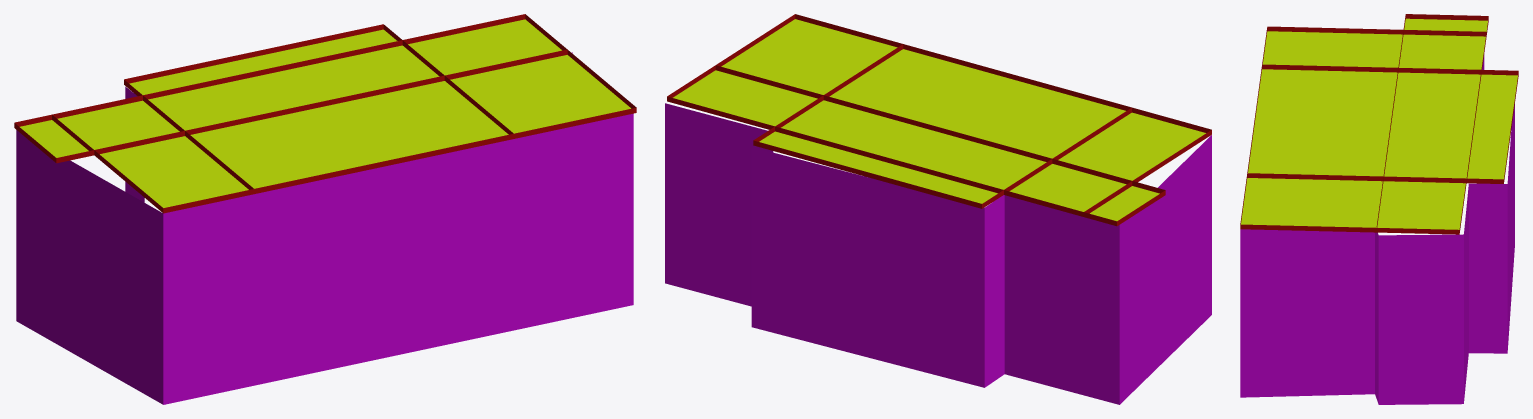
Rendered from bgj_228.glb.
3 renders of one model, left to right at view 1: azimuth 30°, elevation 25°; view 2: azimuth 150°, elevation 25°; view 3: azimuth 270°, elevation 25°, orthographic. The views are drawn at different scales.
Visible parts, largest first — view 1: bgj_228; view 2: bgj_228; view 3: bgj_228.
Part boxes in pixels (<box>): bgj_228: <box>14,14,636,404</box>; bgj_228: <box>665,14,1211,404</box>; bgj_228: <box>1240,14,1518,404</box>.
Bounding box in the file's own units: 34.38 × 12.91 × 18.68.
